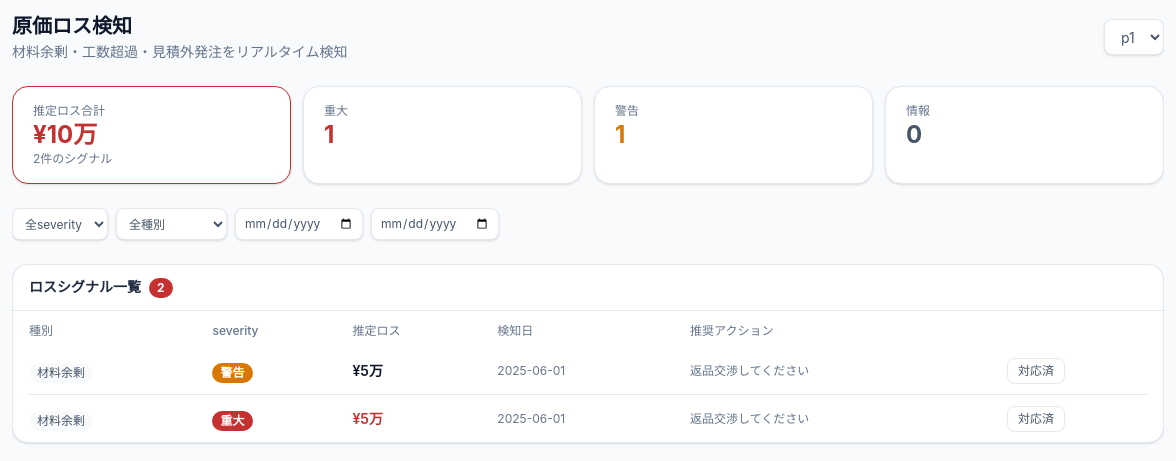
Test: CostLossDashboardPage › severity フィルタが機能する
Select "重大" in the dropdown named "severity フィルタ" at (60, 224), box [12,208,108,240]
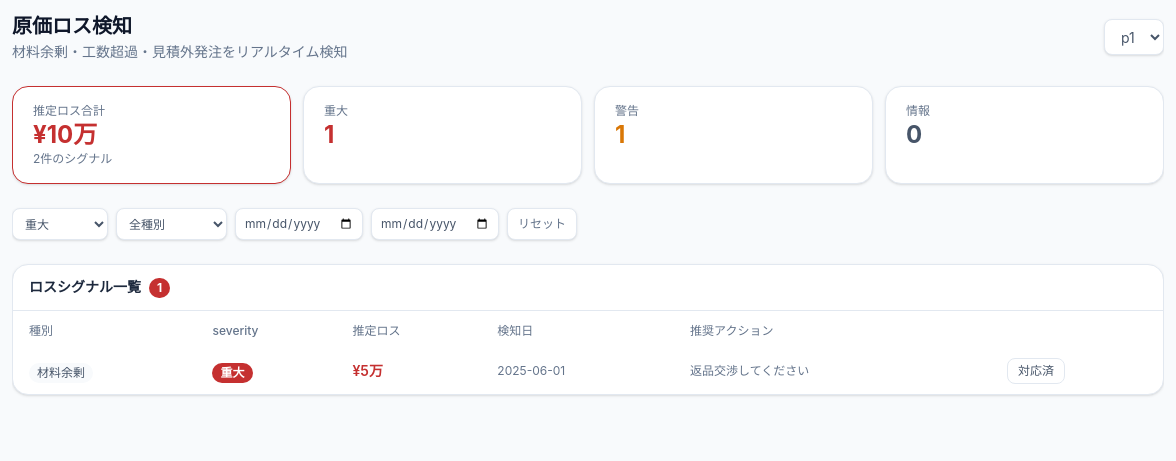
Check: the number of buttons "対応済" is 1, box [1007,358,1065,384]
